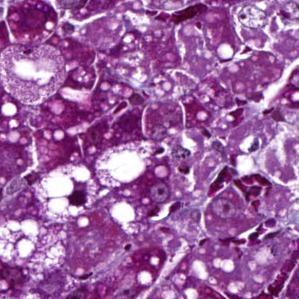ballooning: (3, 43, 67, 106), (37, 162, 99, 223)
